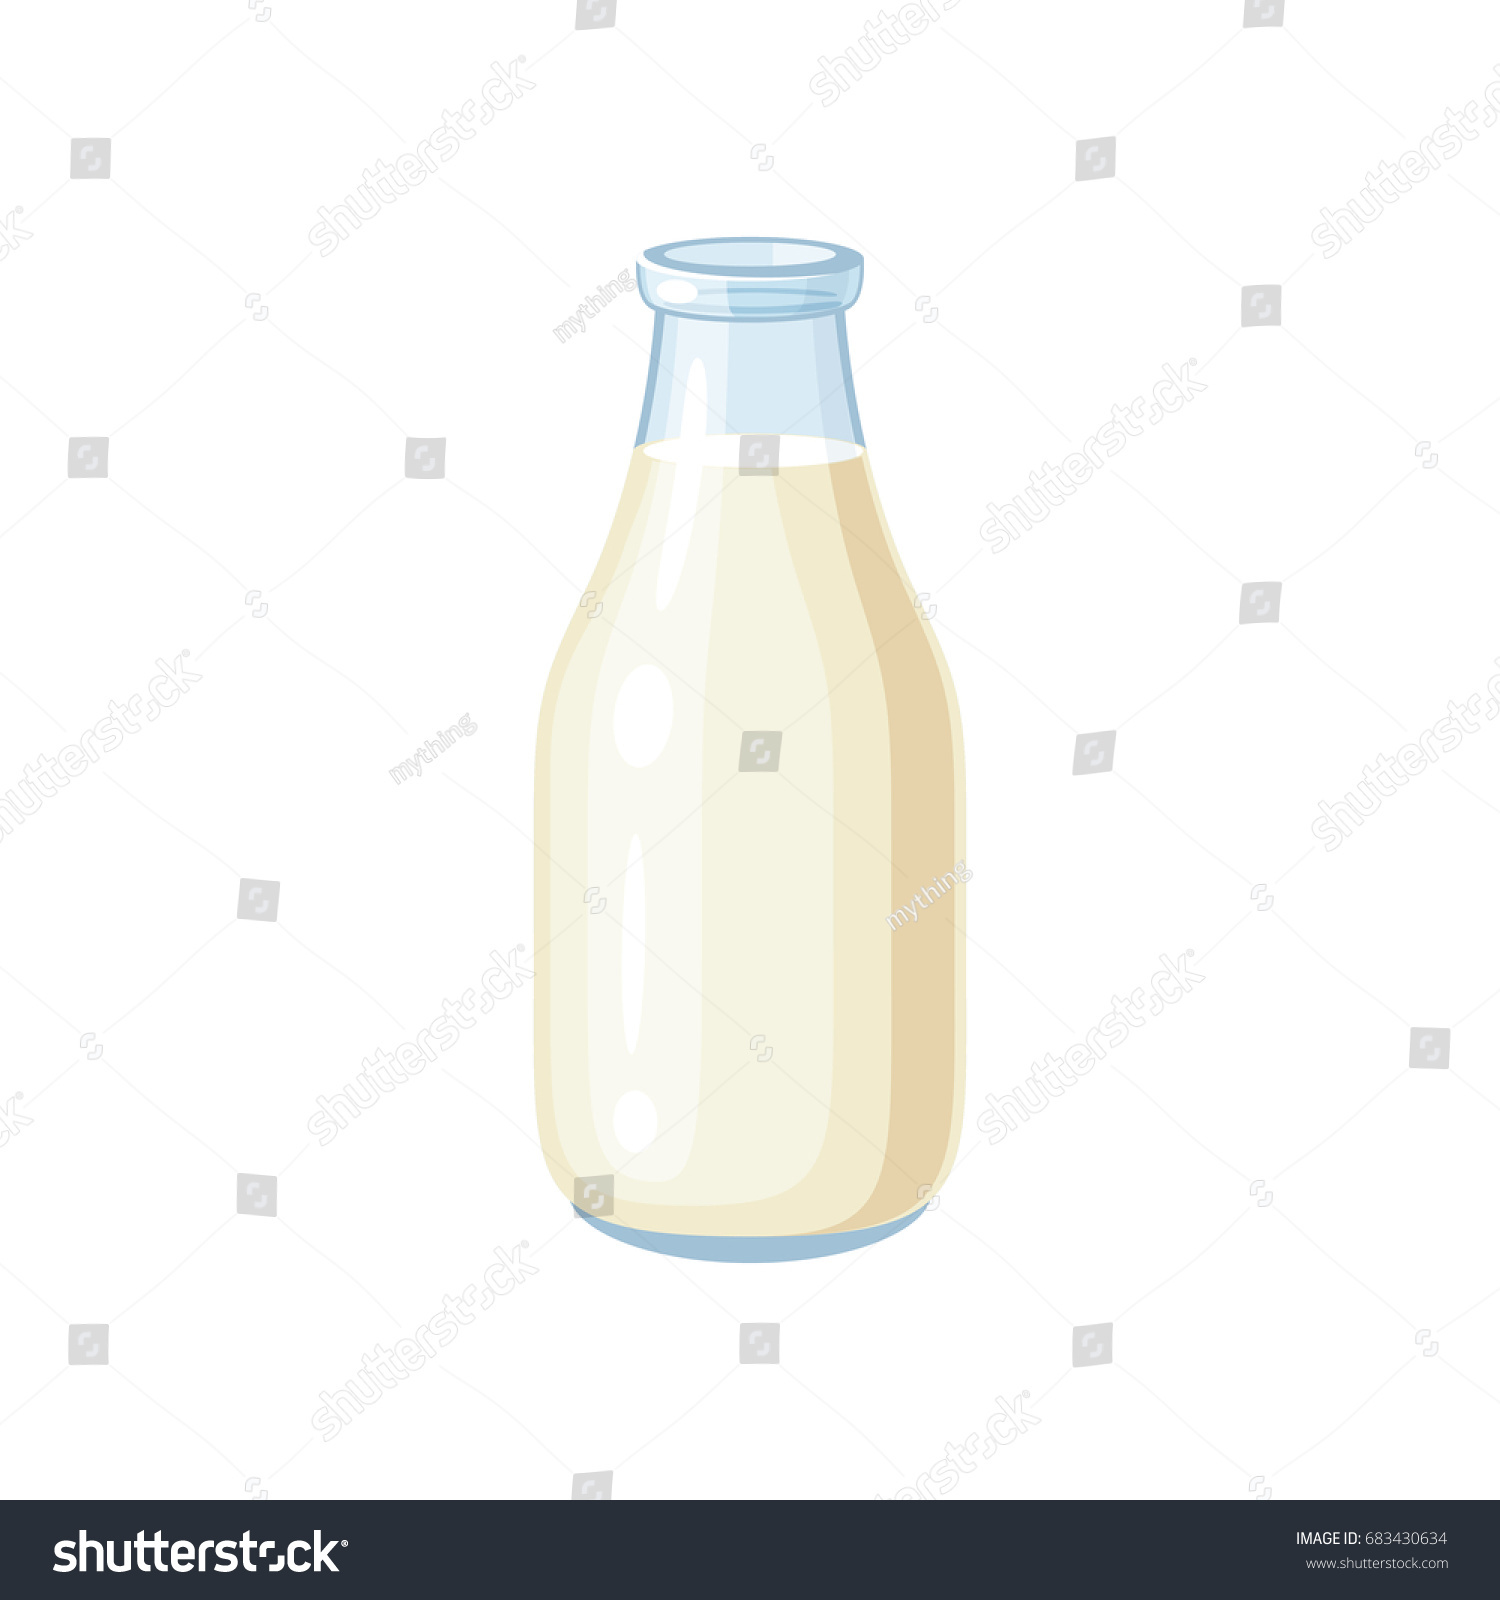glass_bottle: (505, 207, 1021, 1303)
